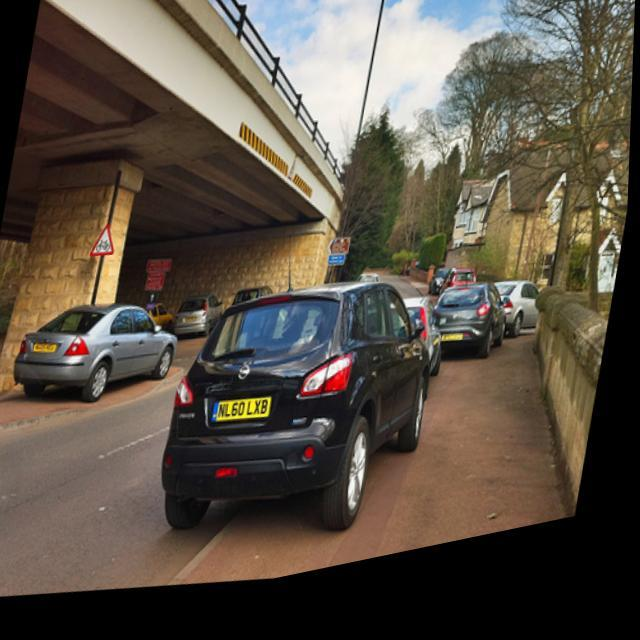license_plate: (212, 394, 280, 441)
